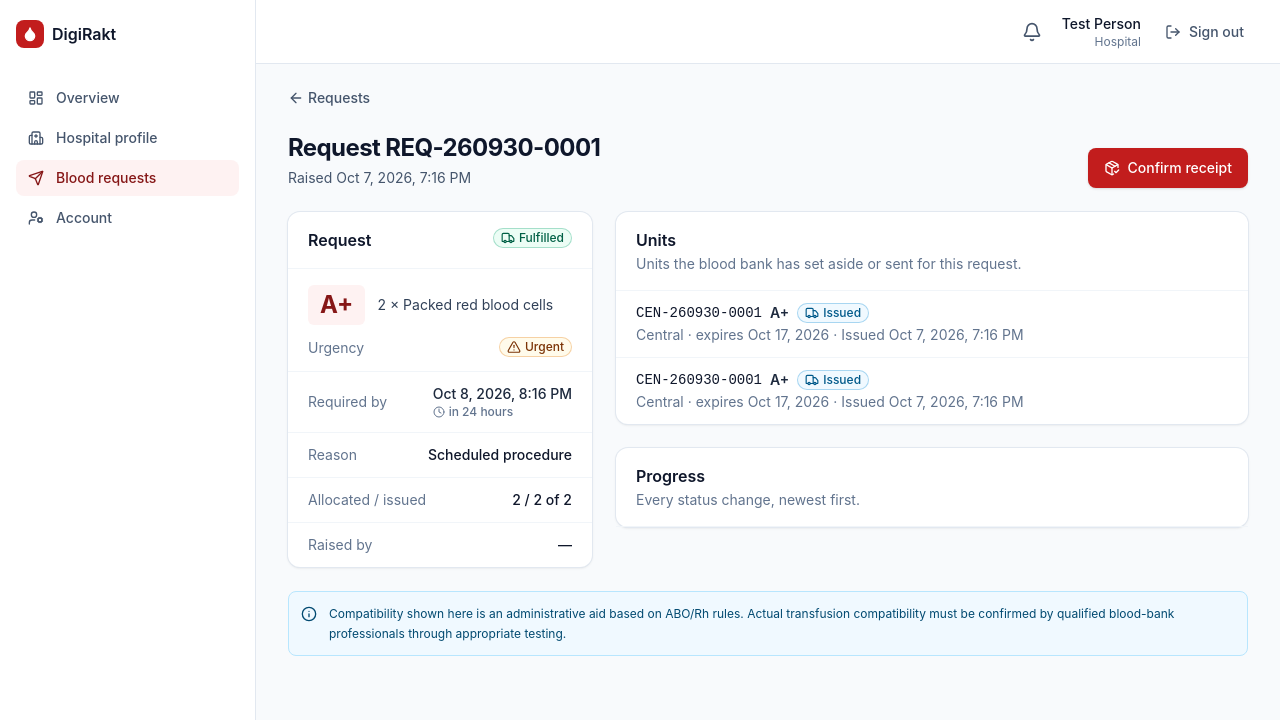
hospital receipt › confirms receipt of issued units
Click the button "Confirm receipt". click: {"x": 1168, "y": 168}
box: [1088,148,1248,188]
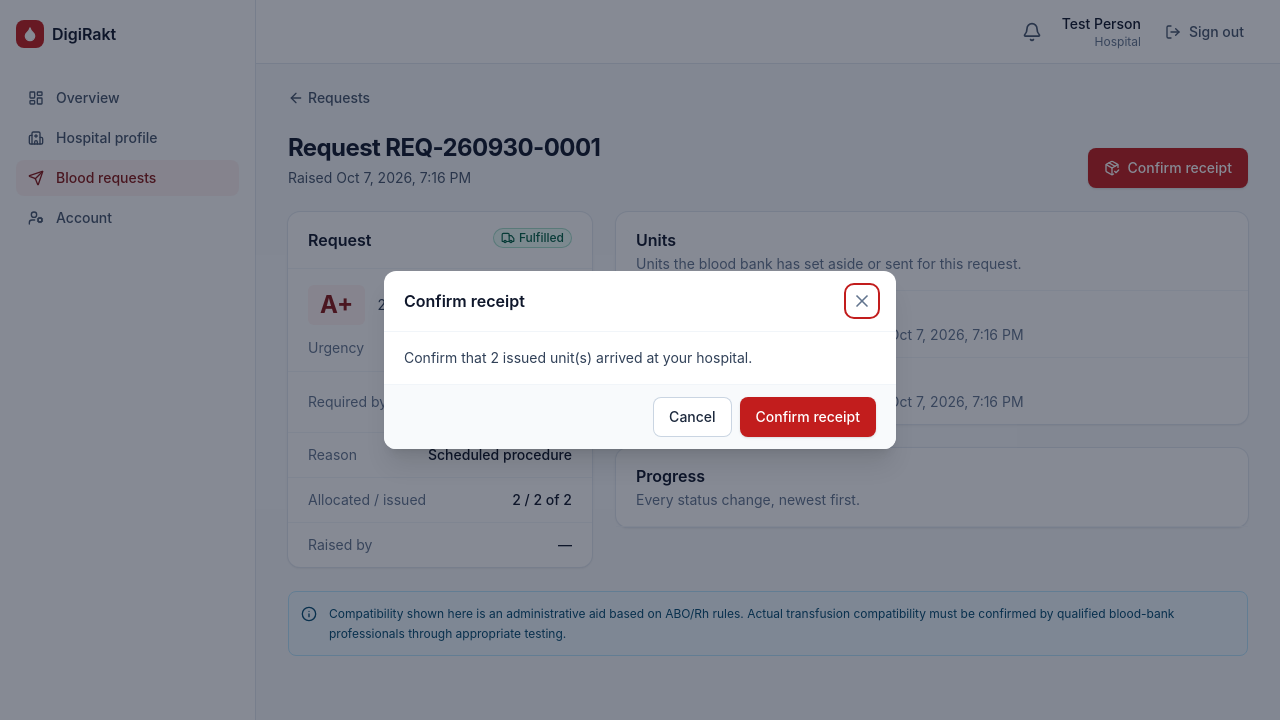
Now the text "Confirm that 2 issued unit(s) arrived at your hospital." is shown, box [404,349,752,366]
Click the button "Confirm receipt". click: {"x": 808, "y": 417}
box: [740,397,876,437]
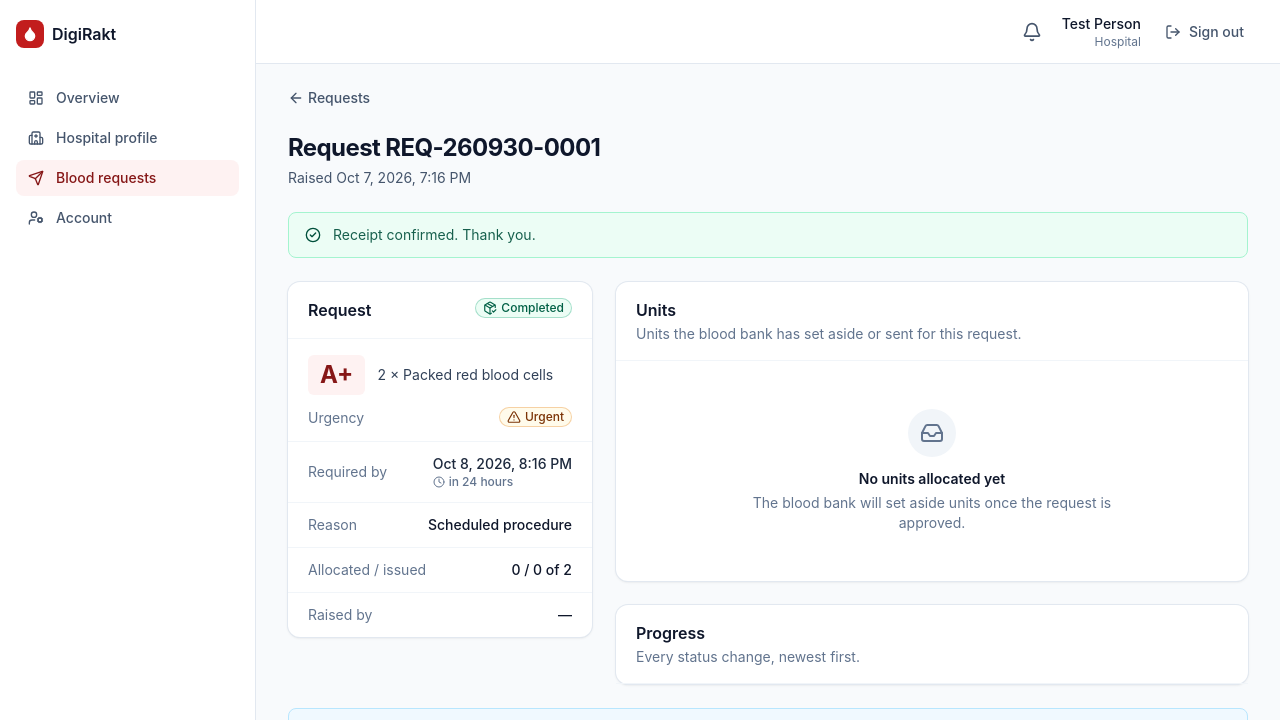
Now the text "Receipt confirmed. Thank you." is shown, box [333,226,536,243]
